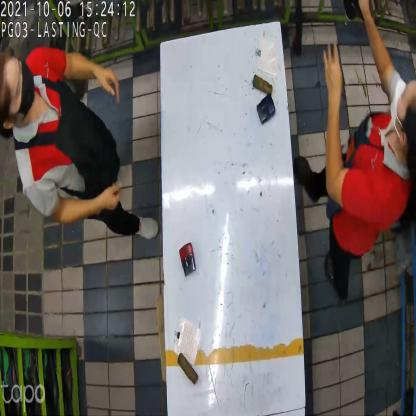stamp: (255, 92, 275, 128), (180, 246, 196, 278)
